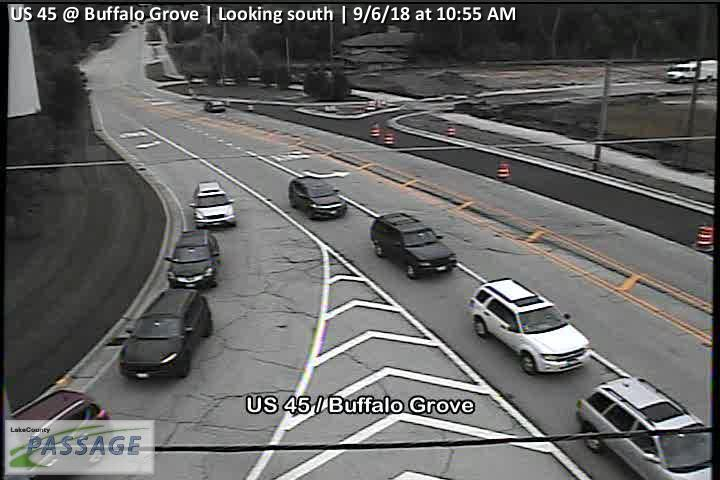SUV: (574, 376, 712, 480), (467, 277, 591, 377), (1, 389, 112, 480), (116, 286, 214, 382), (370, 212, 458, 280), (165, 229, 221, 291), (188, 181, 237, 229), (203, 99, 226, 113)
Sedan: (287, 175, 348, 221)
Truck: (664, 57, 717, 84)
